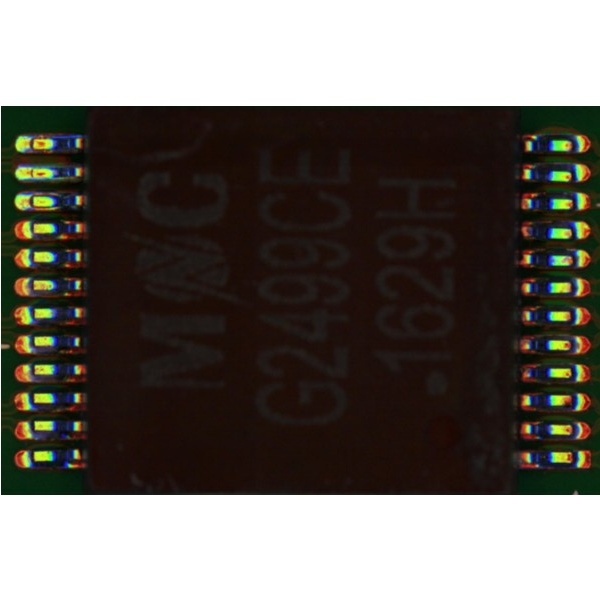Bad_podu: (24, 139, 39, 149), (25, 196, 35, 207), (25, 170, 40, 177)
Bad_qiaojiao: (32, 191, 60, 197), (33, 207, 60, 211)
